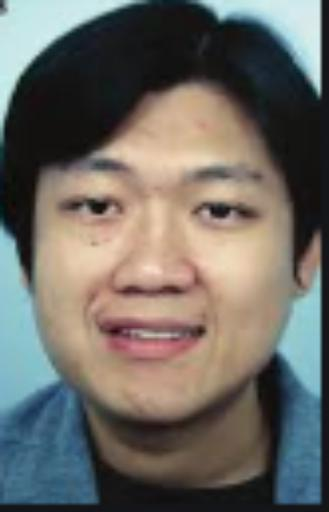left_eye: (190, 203, 265, 233)
left_lip_corner: (194, 317, 218, 343)
right_eye: (56, 196, 127, 226)
right_lip_corner: (90, 313, 117, 343)
